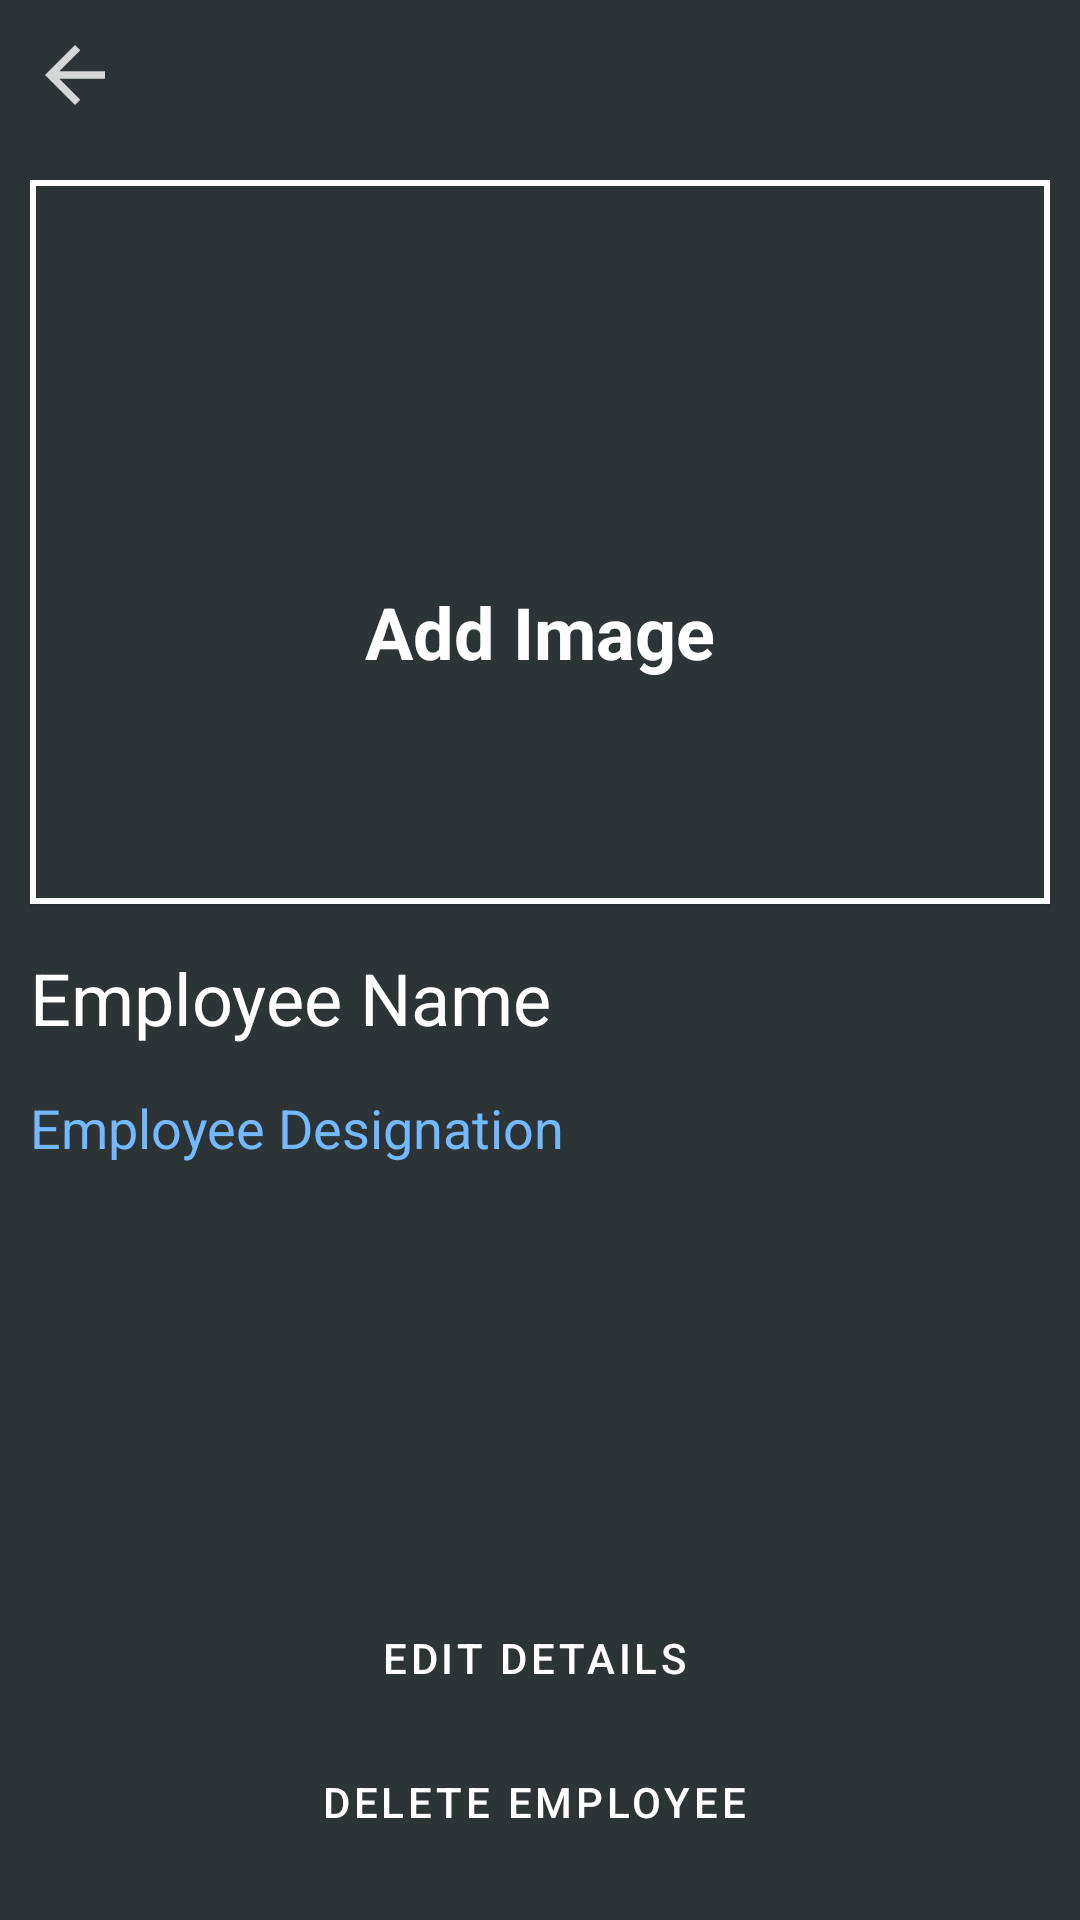

Where to tap for icons on this 1080w x 1920h app screen, as point (x, y):
back: point (75, 75)
